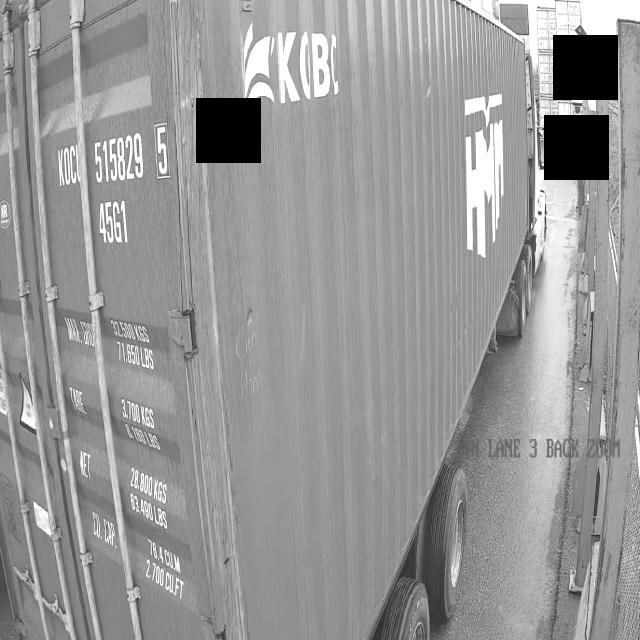container_company_logo: (358, 69, 527, 359), (232, 27, 388, 142)
container_number: (45, 117, 177, 280)
other_container_info: (64, 311, 190, 608)
truck_with_container: (0, 0, 530, 640)
